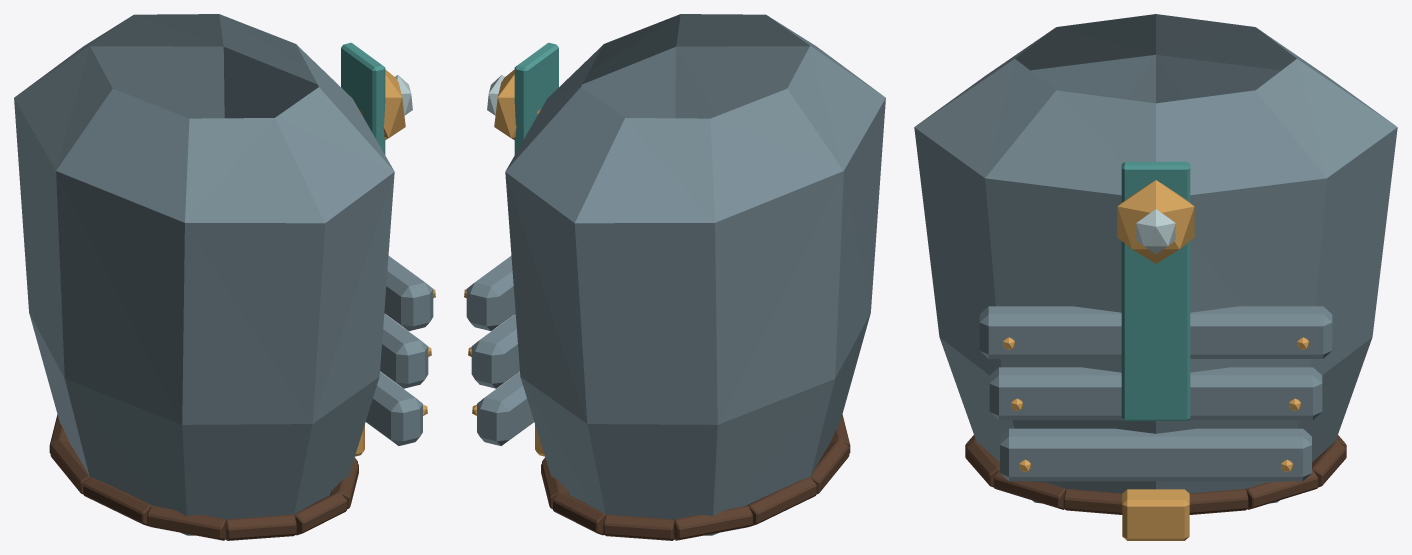
File: SM_Life_Chest_Iron.fbx
The picture shows the model from 3 angles, left to right: view 1: azimuth 30°, elevation 25°; view 2: azimuth 150°, elevation 25°; view 3: azimuth 270°, elevation 25°; orthographic projection.
Visible parts, largest first — view 1: SM_Life_Chest_Iron; view 2: SM_Life_Chest_Iron; view 3: SM_Life_Chest_Iron.
Part boxes in pixels (left/top/right/bottom): SM_Life_Chest_Iron: left=14, top=14, right=435, bottom=540; SM_Life_Chest_Iron: left=464, top=14, right=885, bottom=540; SM_Life_Chest_Iron: left=914, top=14, right=1397, bottom=540.
Size of the model in its own units: 40.45 by 45.25 by 48.
